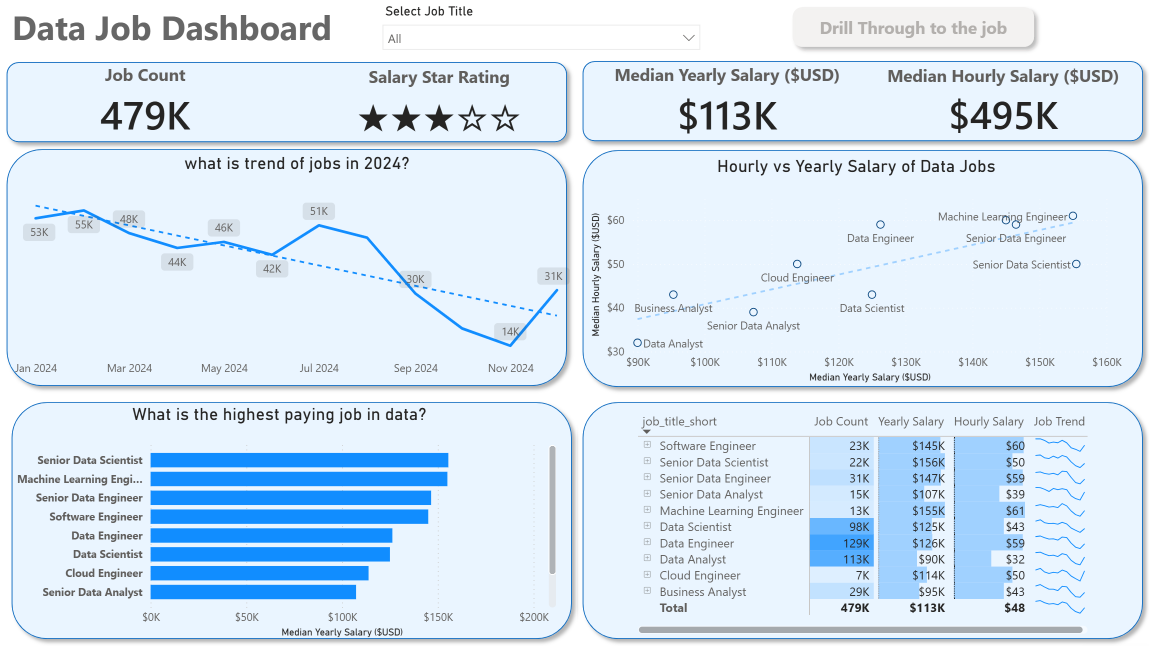

The page's visual inventory and layout, read from the dashboard file:
{"tool":"powerbi","page":{"name":"Data Jobs Dashboard","canvas":[1280,720],"ordinal":0},"visuals":[{"type":"shape","box":[5.3,438.8,640.6,281.3],"z":0,"group":"g1"},{"type":"group","id":"g1","title":"BackGround","box":[0,59.7,1280,660.1],"z":500},{"type":"textbox","box":[10.2,0,372.3,66.3],"z":1000},{"type":"shape","box":[639.3,59.7,640.7,107],"z":1000,"group":"g1"},{"type":"slicer","fields":{"Values":["job_postings_flat.job_title_short"]},"box":[416.9,0,372,150],"z":2000},{"type":"shape","box":[0,157.5,640.6,281.3],"z":2000,"group":"g1"},{"type":"cardVisual","fields":{"Data":["Median(job_postings_flat.salary_year_avg)"]},"box":[645.9,56.8,326.4,114.7],"z":3000},{"type":"shape","box":[639.3,158.8,640.6,281.3],"z":3000,"group":"g1"},{"type":"cardVisual","fields":{"Data":["Sum(job_postings_flat.salary_hour_avg)"]},"box":[952.4,56.8,326.4,114.7],"z":4000},{"type":"shape","box":[639.3,438.8,640.6,281.3],"z":4000,"group":"g1"},{"type":"cardVisual","fields":{"Data":["job_postings_flat.Salary Star Rating"]},"box":[326.3,59.4,326.4,114.7],"z":5000},{"type":"shape","box":[0,61,640.7,107],"z":5000,"group":"g1"},{"type":"cardVisual","fields":{"Data":["CountNonNull(job_postings_flat.job_title_short)"]},"box":[0,56.8,326.4,114.7],"z":6000},{"type":"lineChart","title":"what is trend of jobs in 2024?","fields":{"Category":["job_postings_flat.job_posted_date.Variation.Date Hierarchy.Year","job_postings_flat.job_posted_date.Variation.Date Hierarchy.Quarter","job_postings_flat.job_posted_date.Variation.Date Hierarchy.Month","job_postings_flat.job_posted_date.Variation.Date Hierarchy.Day"],"Y":["CountNonNull(job_postings_flat.job_title_short)"]},"box":[12.6,171,639.3,257.6],"z":7000},{"type":"barChart","title":"What is the highest paying job in data?","fields":{"Y":["Median(job_postings_flat.salary_year_avg)"],"Category":["job_postings_flat.job_title_short"]},"box":[0,449.6,624.5,264],"z":8000},{"type":"scatterChart","title":"Hourly vs Yearly Salary of Data Jobs","fields":{"X":["Median(job_postings_flat.salary_year_avg)"],"Y":["Median(job_postings_flat.salary_hour_avg)"],"Series":["job_postings_flat.job_title_short"]},"box":[652.5,174.4,599.7,256.3],"z":9000},{"type":"pivotTable","fields":{"Rows":["job_postings_flat.job_title_short","job_postings_flat.job_posted_date.Variation.Date Hierarchy.Quarter"],"Values":["CountNonNull(job_postings_flat.job_title_short)","Median(job_postings_flat.salary_year_avg)","Median(job_postings_flat.salary_hour_avg)","SparklineData(CountNonNull(job_postings_flat.job_title_short)_[job_postings_flat.job_posted_date.Variation.Date Hierarch"]},"box":[704.9,454.6,509.7,256],"z":10000},{"type":"actionButton","box":[872.2,0,286.2,62.1],"z":11000}]}

Visuals, with their boxes in screenshot pixels (x1, y1, x2, y2), scaled from the page's 1280x720 canvas onto the 1150x646 screenshot:
shape: 5 394 580 645
"BackGround" group: 0 54 1149 645
textbox: 9 0 344 59
shape: 574 54 1149 150
slicer - job_postings_flat.job_title_short: 375 0 709 135
shape: 0 141 576 394
cardVisual - Median(job_postings_flat.salary_year_avg): 580 51 874 154
shape: 574 142 1149 395
cardVisual - Sum(job_postings_flat.salary_hour_avg): 856 51 1149 154
shape: 574 394 1149 645
cardVisual - job_postings_flat.Salary Star Rating: 293 53 586 156
shape: 0 55 576 151
cardVisual - CountNonNull(job_postings_flat.job_title_short): 0 51 293 154
"what is trend of jobs in 2024?" lineChart: 11 153 586 385
"What is the highest paying job in data?" barChart: 0 403 561 640
"Hourly vs Yearly Salary of Data Jobs" scatterChart: 586 156 1125 386
pivotTable - job_postings_flat.job_title_short x job_postings_flat.job_posted_date.Variation.Date Hierarchy.Quarter: 633 408 1091 638
actionButton: 784 0 1041 56
